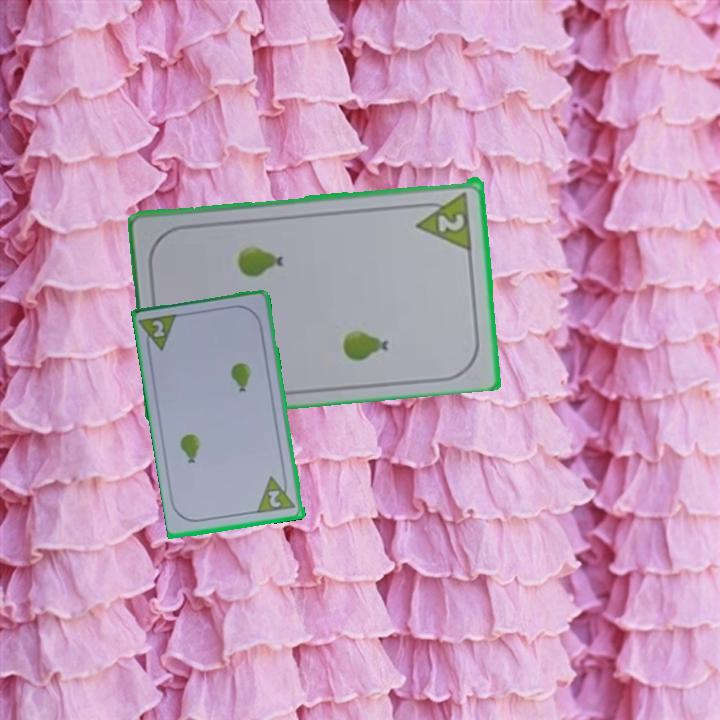2p: (137, 310, 182, 357), (435, 209, 468, 234), (265, 487, 284, 511)
